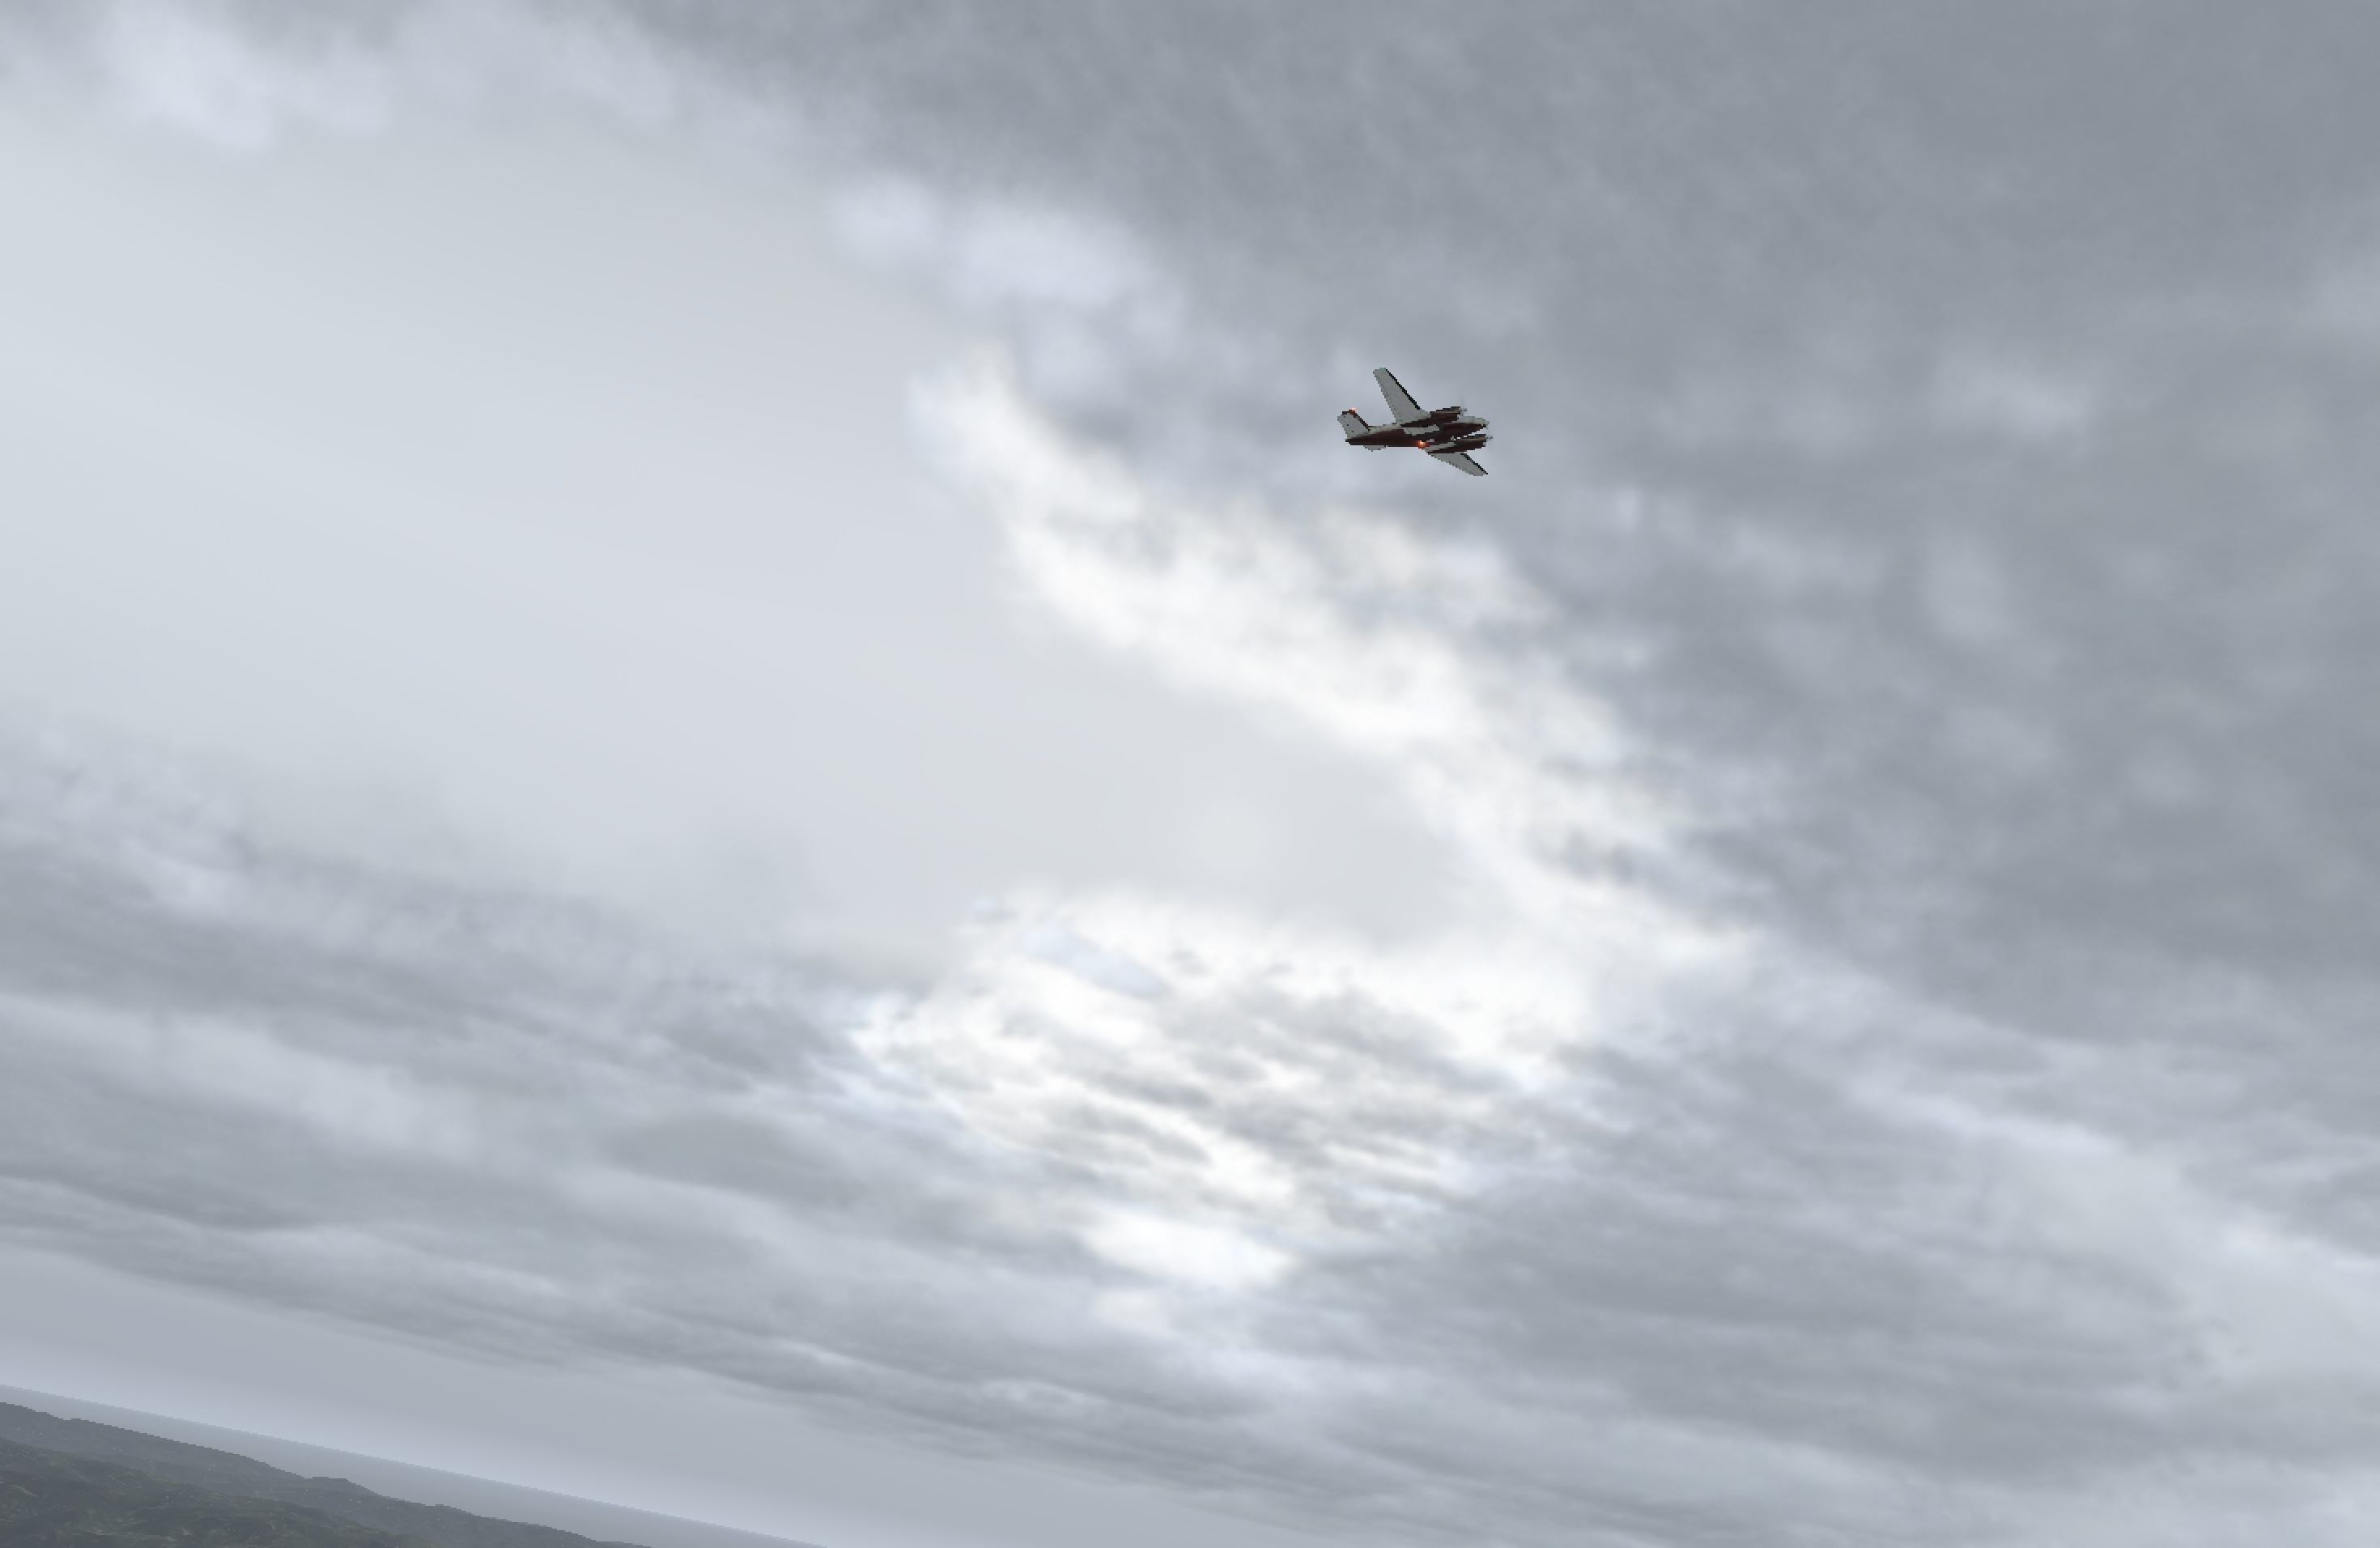aircraft: (1320, 392, 1558, 482)
